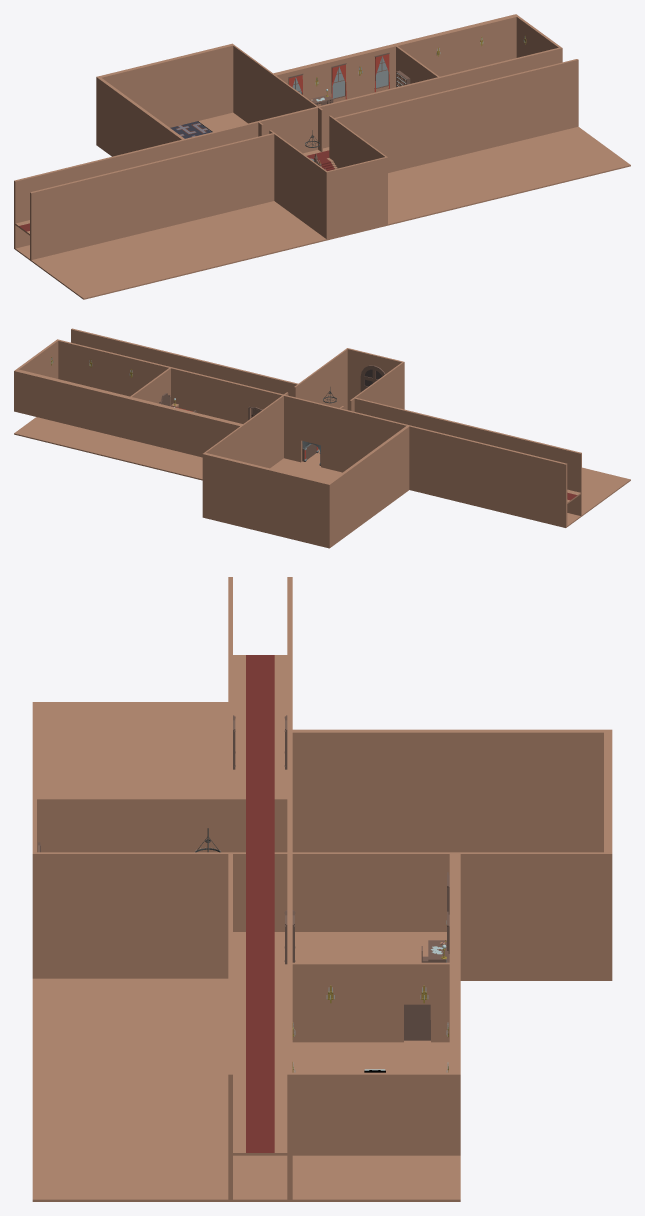
Rendered from Mansion.glb.
3 renders of one model, top to bottom at view 1: azimuth 30°, elevation 25°; view 2: azimuth 150°, elevation 25°; view 3: azimuth 270°, elevation 25°, orthographic. The views are drawn at different scales.
Parts seen in each view (by area): view 1: Hallway_col, bd1.Window_col; view 2: Hallway_col, FrontDoor_col; view 3: Hallway_col, Bookshelf_col.
Part boxes in pixels (x1=…): Hallway_col: x1=14, y1=14, x2=630, y2=299; bd1.Window_col: x1=288, y1=52, x2=389, y2=99; Hallway_col: x1=14, y1=328, x2=630, y2=548; FrontDoor_col: x1=360, y1=365, x2=385, y2=391; Hallway_col: x1=32, y1=577, x2=612, y2=1201; Bookshelf_col: x1=404, y1=1004, x2=430, y2=1040.
Bounding box in the file's own units: 114 × 13.55 × 55.97.
18 materials, 18 textured.
